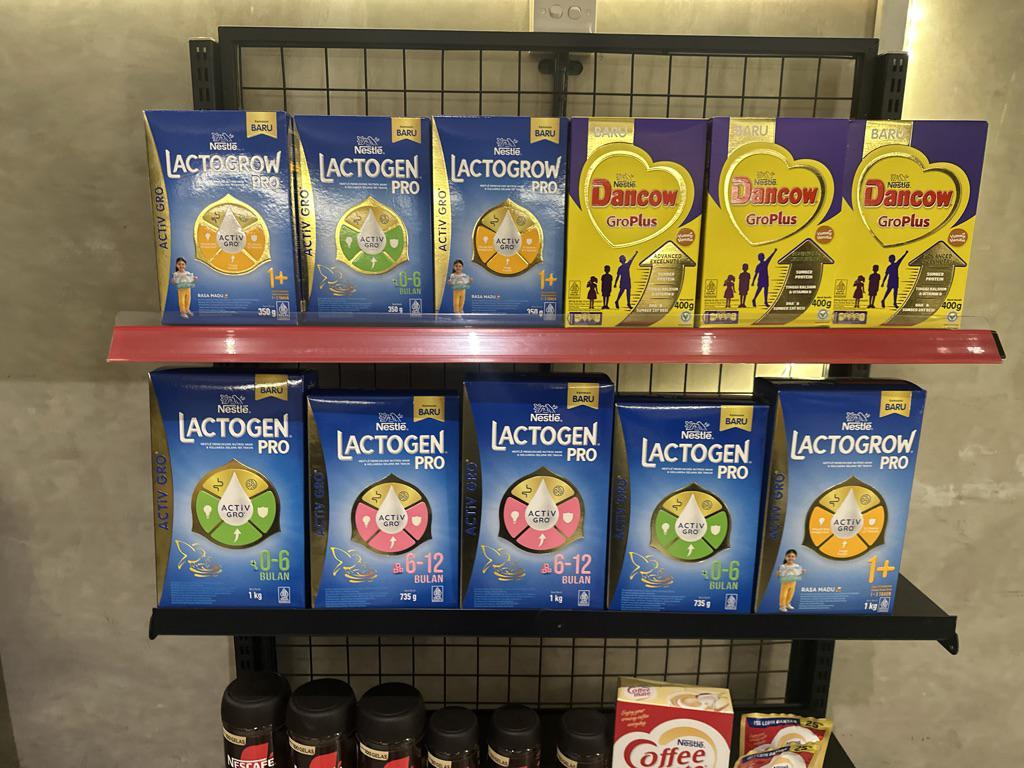LACTOGEN PRO 0-6 mo 12x1kg ID: (150, 371, 308, 606)
LACTOGEN PRO 0-6 mo 12x735g ID: (607, 403, 767, 611)
LACTOGEN PRO 0-6 mo 24x350g ID: (293, 113, 435, 325)
LACTOGEN PRO 6-12 mo 12x1kg ID: (460, 376, 614, 608)
LACTOGEN PRO 6-12 mo 12x735g ID: (304, 390, 462, 609)
LACTOGROW PRO 1+ Honey 12x1kg ID: (757, 386, 928, 611)
LACTOGROW PRO 1+ Honey 24x350g ID: (145, 106, 300, 326), (430, 114, 569, 327)
